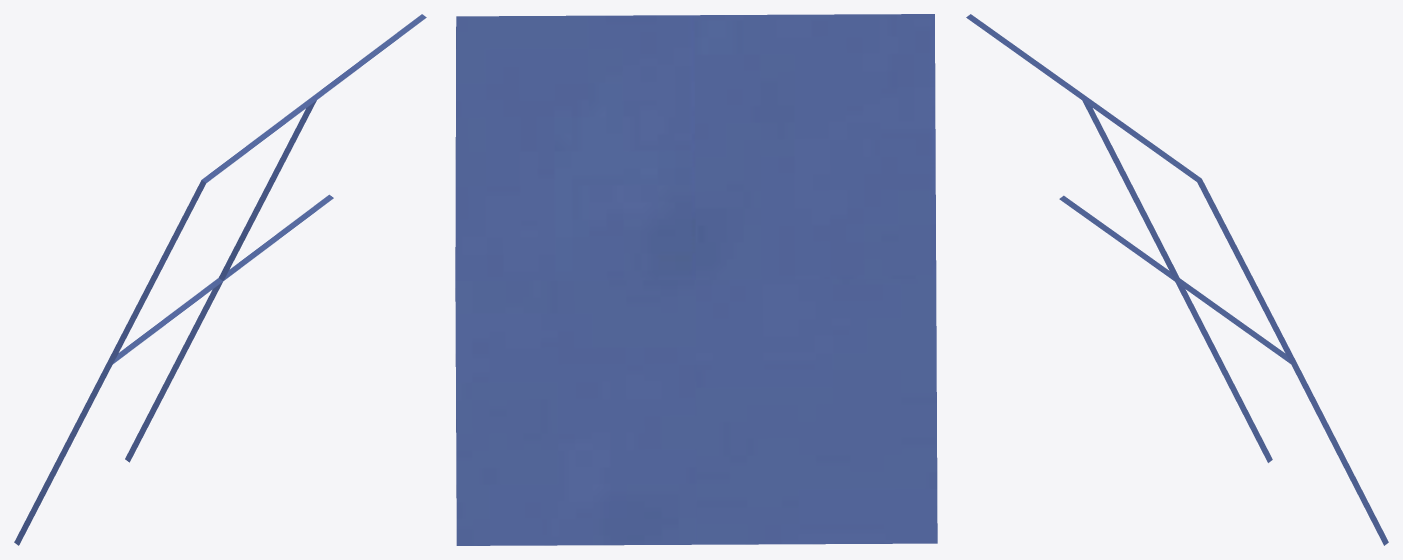
3 views of the same model, side by side, from view 1: azimuth 30°, elevation 25°; view 2: azimuth 150°, elevation 25°; view 3: azimuth 270°, elevation 25° (orthographic). The views are drawn at different scales.
Bounding box in the file's own units: 19670 × 17788 × 16546.
1 material, 1 textured.
